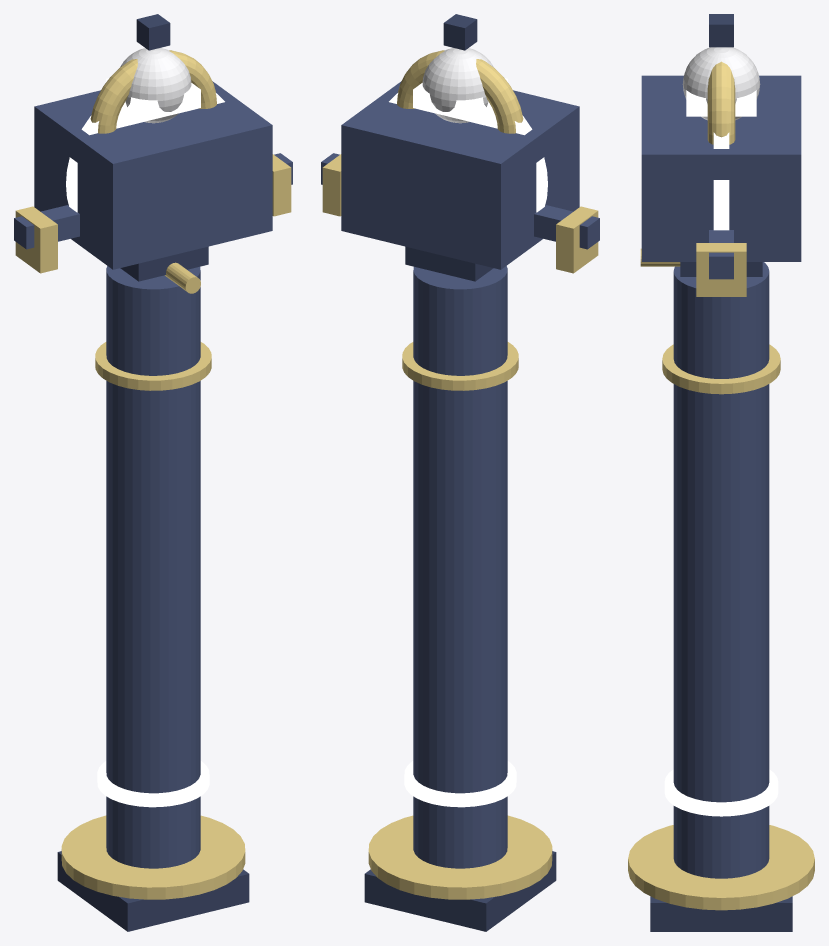
File: stage_light_fixture.fbx
3 renders of one model, left to right at view 1: azimuth 30°, elevation 25°; view 2: azimuth 150°, elevation 25°; view 3: azimuth 270°, elevation 25°, orthographic.
Visible parts, largest first — view 1: Post, HeadShell, BaseRing, Base, Lens, Ring, PostBandHigh, PostBandLow, YokeJointL, YokeArmL, HeadPivot, Bezel (+4 smaller); view 2: Post, HeadShell, BaseRing, Base, Lens, Ring, PostBandHigh, PostBandLow, YokeJointL, HeadPivot, YokeArmL, Bezel (+3 smaller); view 3: Post, HeadShell, BaseRing, Base, Lens, PostBandHigh, YokeJointR, PostBandLow, Ring, HeadShellBand, YokeArmR, Bezel (+2 smaller).
Part boxes in pixels (left/top/right/bottom): Post: left=106, top=266, right=200, bottom=868; HeadShell: left=34, top=81, right=272, bottom=269; BaseRing: left=61, top=815, right=245, bottom=899; Base: left=57, top=851, right=249, bottom=931; Lens: left=120, top=48, right=191, bottom=123; Ring: left=90, top=50, right=216, bottom=133; PostBandHigh: left=95, top=342, right=211, bottom=390; PostBandLow: left=97, top=761, right=209, bottom=807; YokeJointL: left=15, top=206, right=57, bottom=273; YokeArmL: left=14, top=205, right=79, bottom=249; HeadPivot: left=120, top=246, right=208, bottom=281; Bezel: left=106, top=78, right=200, bottom=122; Post: left=413, top=266, right=507, bottom=868; HeadShell: left=341, top=81, right=579, bottom=269; BaseRing: left=368, top=815, right=552, bottom=899; Base: left=364, top=851, right=556, bottom=931; Lens: left=422, top=48, right=493, bottom=123; Ring: left=397, top=50, right=523, bottom=133; PostBandHigh: left=402, top=342, right=518, bottom=390; PostBandLow: left=404, top=761, right=516, bottom=807; YokeJointL: left=556, top=206, right=598, bottom=273; HeadPivot: left=405, top=246, right=493, bottom=281; YokeArmL: left=534, top=205, right=599, bottom=249; Bezel: left=413, top=78, right=507, bottom=122; Post: left=673, top=262, right=769, bottom=878; HeadShell: left=641, top=75, right=801, bottom=261; BaseRing: left=628, top=825, right=814, bottom=910; Base: left=650, top=896, right=792, bottom=931; Lens: left=682, top=47, right=760, bottom=120; PostBandHigh: left=662, top=344, right=780, bottom=394; YokeJointR: left=696, top=243, right=746, bottom=296; PostBandLow: left=664, top=769, right=778, bottom=816; Ring: left=707, top=61, right=735, bottom=144; HeadShellBand: left=713, top=132, right=729, bottom=230; YokeArmR: left=709, top=230, right=733, bottom=279; Bezel: left=686, top=90, right=756, bottom=116.
Bounding box in the file's own units: 2.74 × 8.64 × 1.64.
